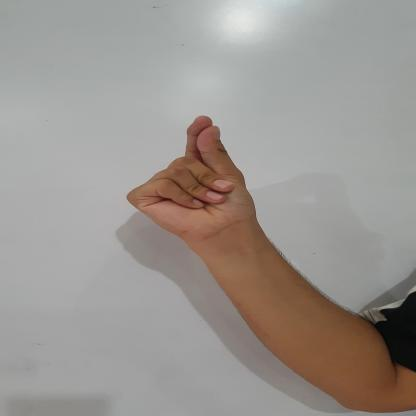R: (128, 112, 258, 244)
